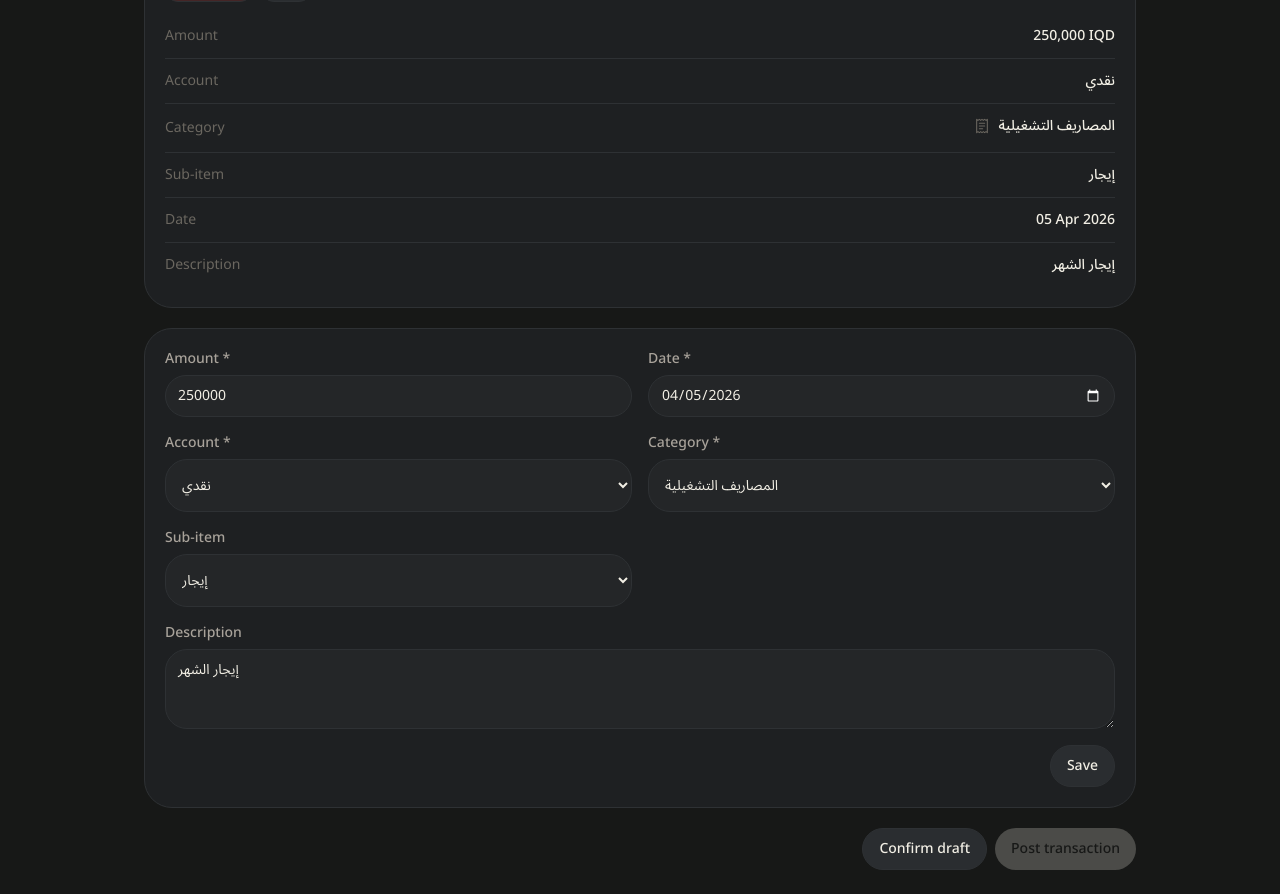
Scenario: TransactionReviewView › reports an action failure without losing the review
(page scrolled)
Click the button "Confirm draft" at (925, 849), box [862,828,987,870]
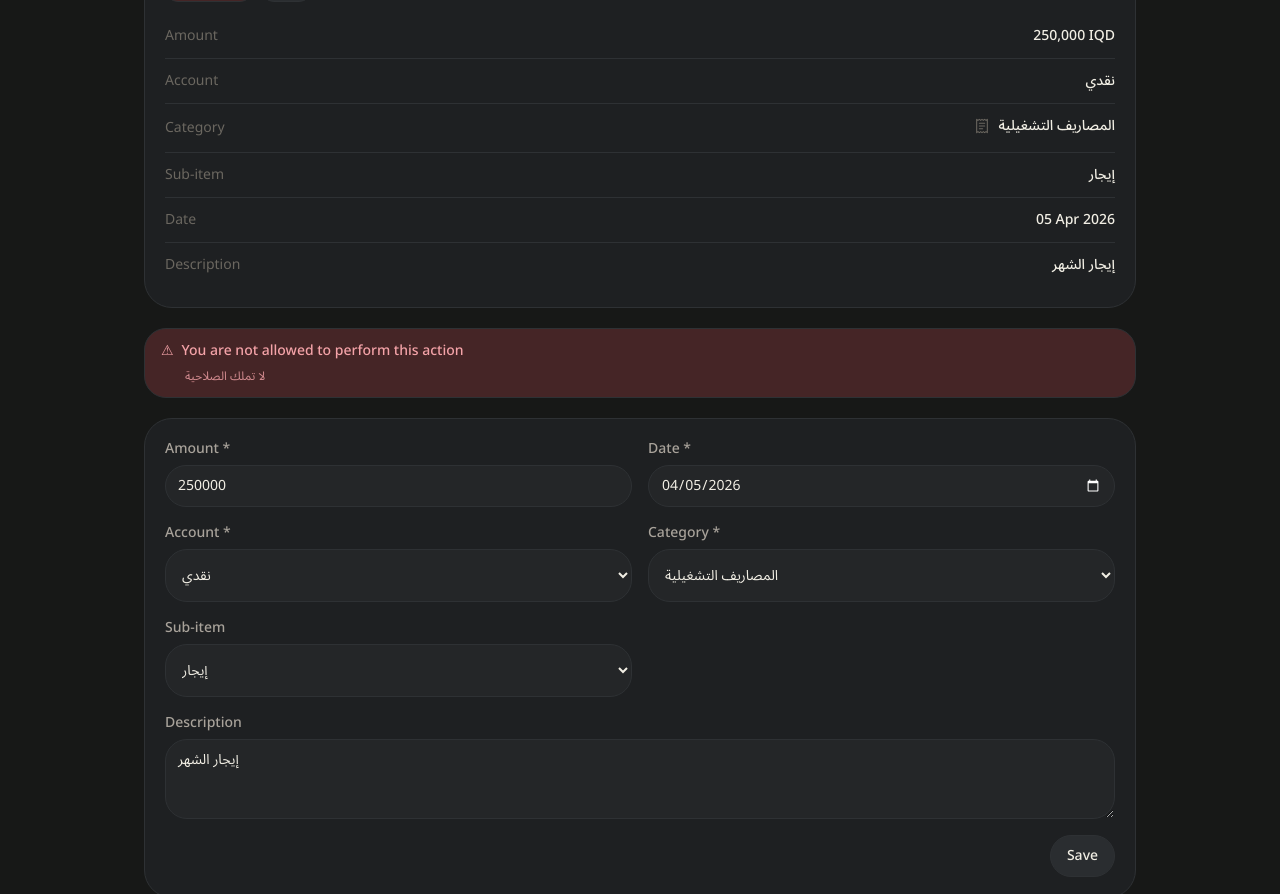
Check: the text "250,000 IQD" is shown, box [1033,21,1115,50]
Check: the message shows "لا تملك الصلاحية", box [185,364,265,389]
